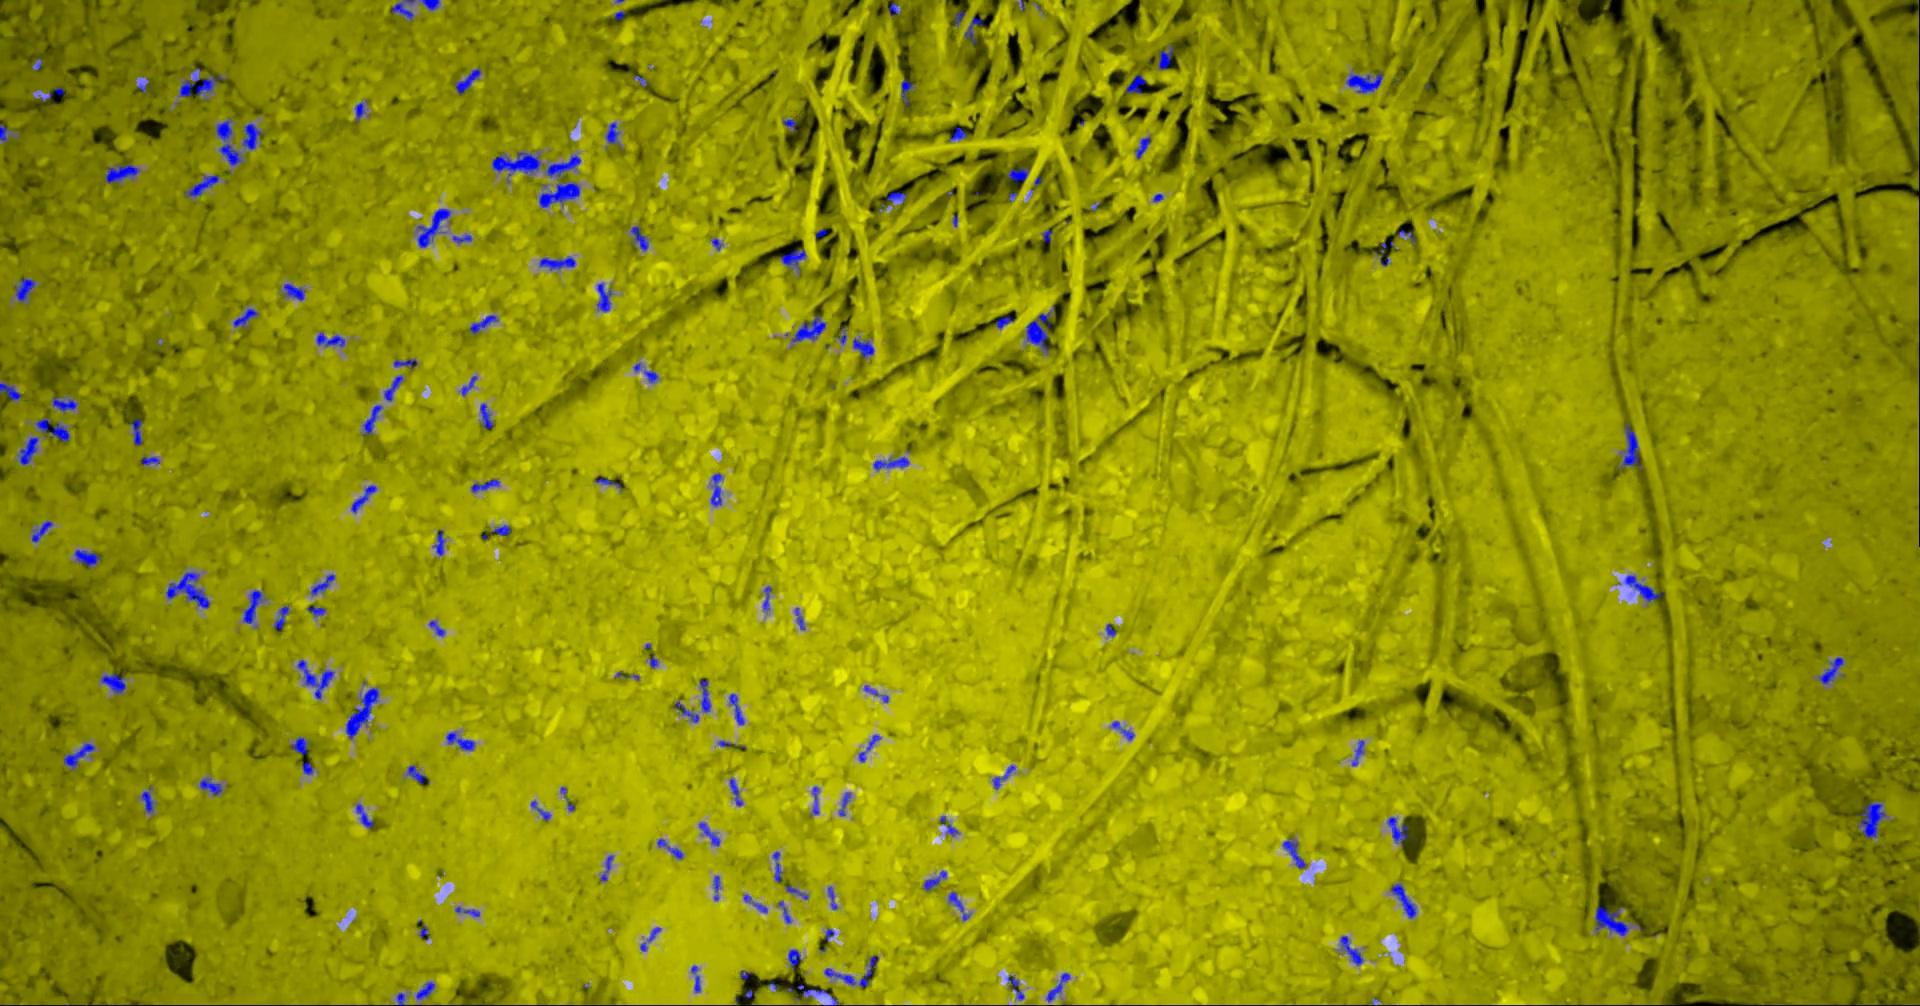ant: (825, 954, 880, 987), (347, 687, 380, 739), (168, 572, 211, 608), (298, 659, 337, 699), (418, 208, 453, 246), (217, 119, 244, 165), (493, 151, 542, 175), (1619, 423, 1644, 469), (1859, 801, 1888, 838), (540, 182, 582, 207), (1027, 311, 1053, 352), (180, 74, 225, 97), (1597, 904, 1630, 935), (1625, 575, 1665, 601), (1392, 883, 1418, 918), (797, 983, 841, 1005), (392, 0, 441, 19), (792, 314, 827, 340), (37, 417, 71, 442), (65, 743, 97, 768), (1347, 71, 1384, 93), (547, 154, 582, 177), (352, 484, 378, 512), (185, 174, 220, 196), (105, 163, 141, 183), (456, 69, 483, 95), (1820, 655, 1845, 683), (1284, 838, 1308, 868), (1341, 935, 1364, 965), (1388, 815, 1410, 847), (244, 589, 264, 622), (949, 890, 971, 920), (1048, 972, 1070, 1001), (19, 436, 41, 464), (364, 404, 383, 434), (781, 248, 808, 269), (471, 314, 499, 334), (966, 15, 985, 44), (447, 730, 476, 749), (994, 765, 1017, 789), (243, 123, 264, 149), (102, 672, 127, 694), (312, 573, 337, 594), (700, 822, 721, 846), (17, 277, 37, 302), (540, 257, 577, 271), (385, 375, 404, 401), (658, 838, 684, 857), (875, 456, 910, 470), (75, 549, 103, 567), (33, 520, 55, 542), (676, 701, 700, 721), (924, 870, 949, 890), (730, 694, 745, 724), (1377, 241, 1396, 265), (235, 307, 259, 326), (1112, 720, 1137, 739), (632, 225, 650, 250), (357, 803, 375, 828), (598, 282, 613, 311), (866, 685, 890, 702), (745, 894, 770, 912), (855, 337, 875, 357), (408, 763, 428, 784), (532, 800, 552, 821), (201, 777, 223, 795), (53, 395, 77, 412), (317, 332, 345, 345), (1128, 74, 1148, 93), (941, 815, 960, 836), (1, 382, 23, 400), (481, 403, 495, 429), (903, 77, 916, 107), (472, 479, 502, 492), (41, 86, 65, 102), (701, 680, 712, 711), (1010, 166, 1031, 183), (284, 283, 306, 300), (276, 605, 290, 630), (731, 777, 744, 805), (601, 855, 615, 880), (1010, 976, 1025, 998), (131, 418, 143, 445), (292, 735, 310, 754), (417, 981, 436, 998), (1161, 44, 1175, 69), (1352, 741, 1366, 765), (142, 788, 156, 812), (712, 473, 723, 506), (1137, 136, 1152, 158), (462, 375, 477, 395), (596, 476, 622, 488), (607, 122, 621, 144), (787, 885, 809, 899), (789, 949, 803, 969), (395, 358, 419, 370), (436, 528, 446, 555), (775, 851, 783, 882), (692, 965, 702, 992), (841, 793, 852, 815), (888, 191, 908, 203), (997, 315, 1017, 328), (456, 906, 481, 916), (430, 620, 446, 636), (309, 605, 328, 617), (829, 887, 839, 909), (951, 126, 968, 140), (955, 8, 968, 25), (813, 785, 820, 814), (356, 102, 366, 123), (796, 607, 806, 629), (764, 586, 773, 610), (645, 370, 660, 384), (1, 123, 11, 144), (493, 525, 512, 535), (714, 875, 721, 901), (455, 234, 472, 243), (143, 455, 161, 464), (303, 761, 314, 774)
